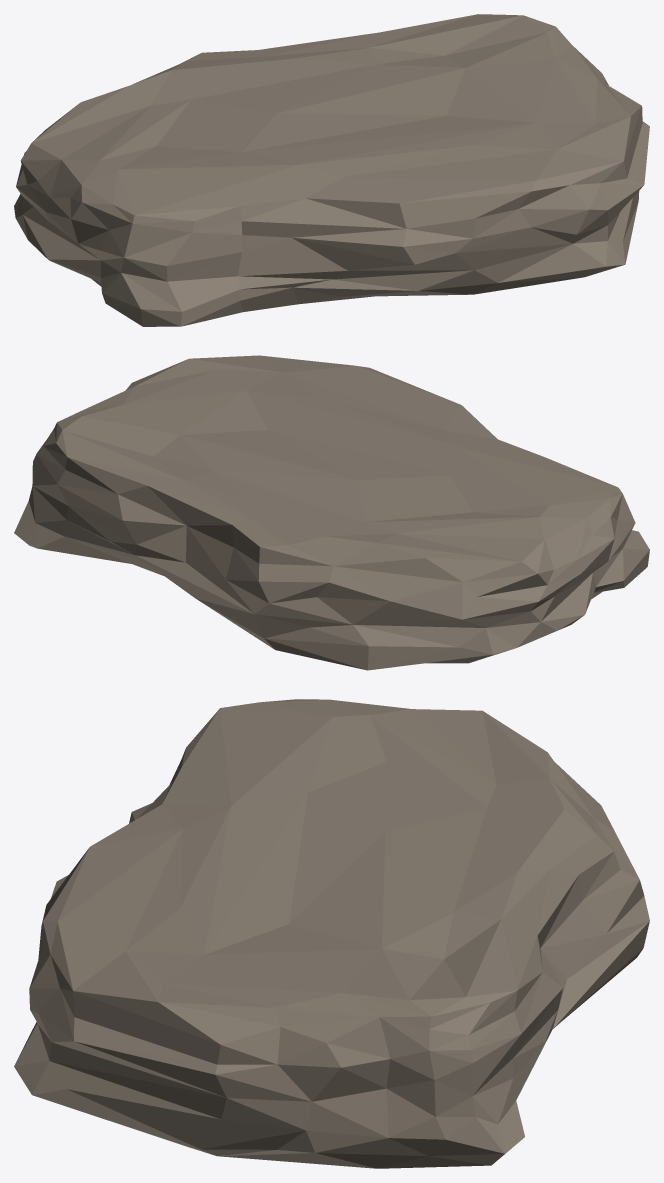
The model's file is SM_Env_Rock_Flat_02.glb.
3 renders of one model, top to bottom at view 1: azimuth 30°, elevation 25°; view 2: azimuth 150°, elevation 25°; view 3: azimuth 270°, elevation 25°, orthographic. The views are drawn at different scales.
Parts seen in each view (by area): view 1: SM_Env_Rock_Flat_02; view 2: SM_Env_Rock_Flat_02; view 3: SM_Env_Rock_Flat_02.
Part boxes in pixels (x1,y1,x2,y2): SM_Env_Rock_Flat_02: [14, 14, 649, 326]; SM_Env_Rock_Flat_02: [14, 355, 649, 670]; SM_Env_Rock_Flat_02: [14, 699, 649, 1168].
Size of the model in its own units: 15.31 by 3.22 by 11.84.
Materials: 1 (1 with a texture image).
